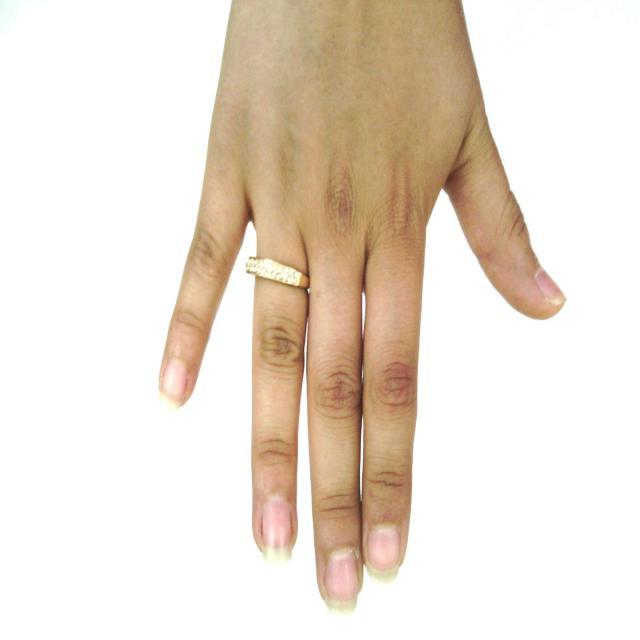Fingernail: (326, 551, 359, 613), (262, 497, 292, 563), (366, 526, 400, 582), (161, 359, 186, 407), (537, 268, 565, 302)
